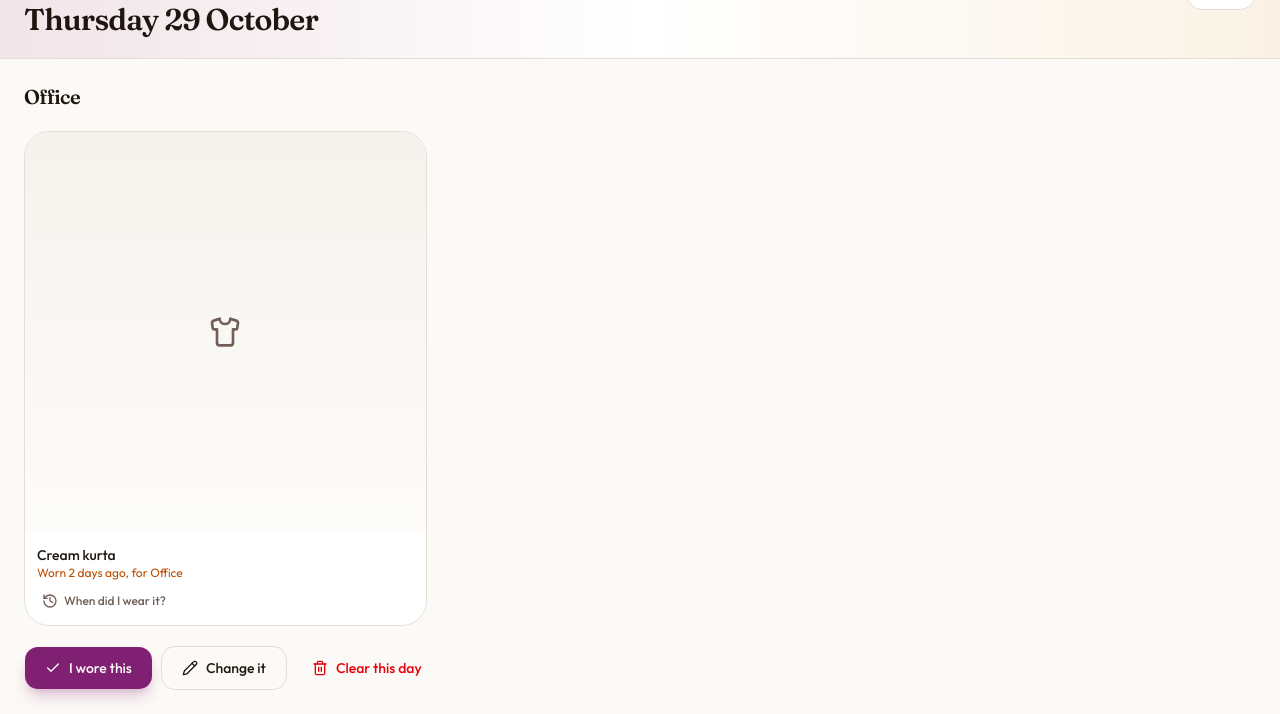
Test: DayPlan, on a day already planned › holds back Save changes until something is actually different
The image size is (1280, 714).
(page scrolled)
Click the button "Change it" at (224,668), box x1=161 y1=646 x2=287 y2=690
(page scrolled)
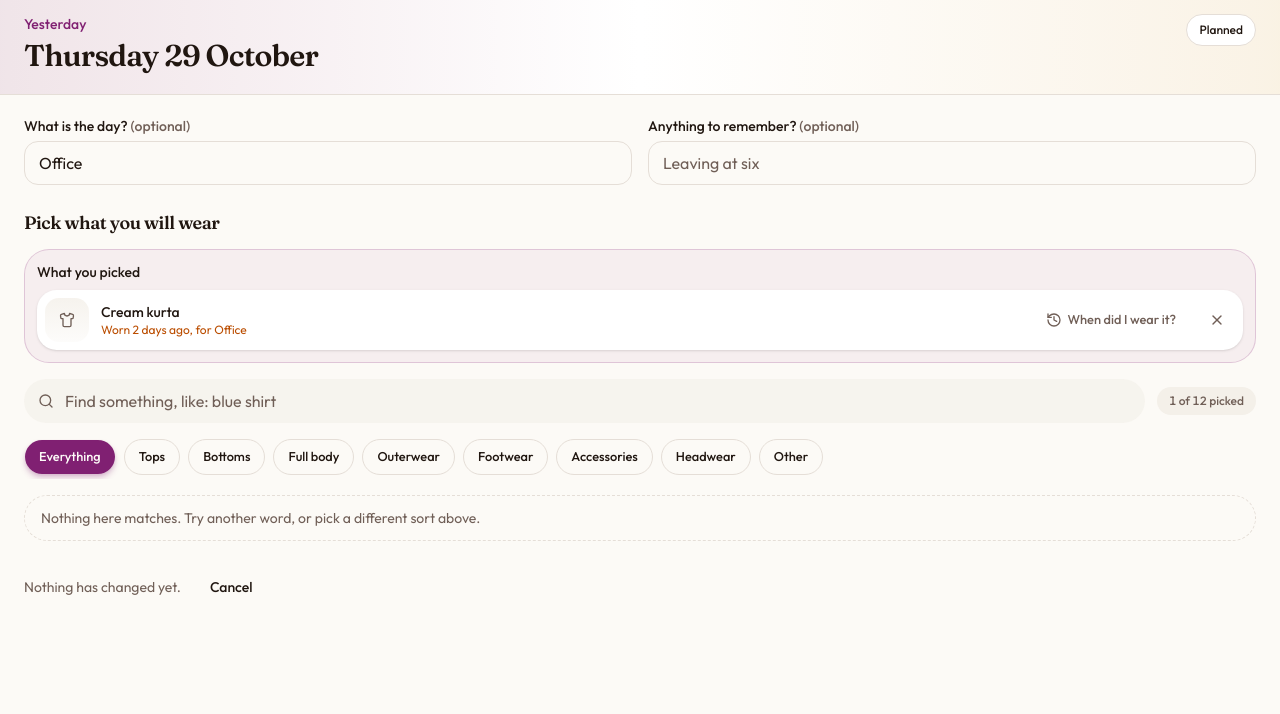
Check: the button "save changes" is not shown
Check: the text "Nothing has changed yet." is shown, box x1=24 y1=578 x2=181 y2=596
Type " party" into the field labelled "What is the day? (optional)" at (328,163), box x1=24 y1=141 x2=632 y2=185
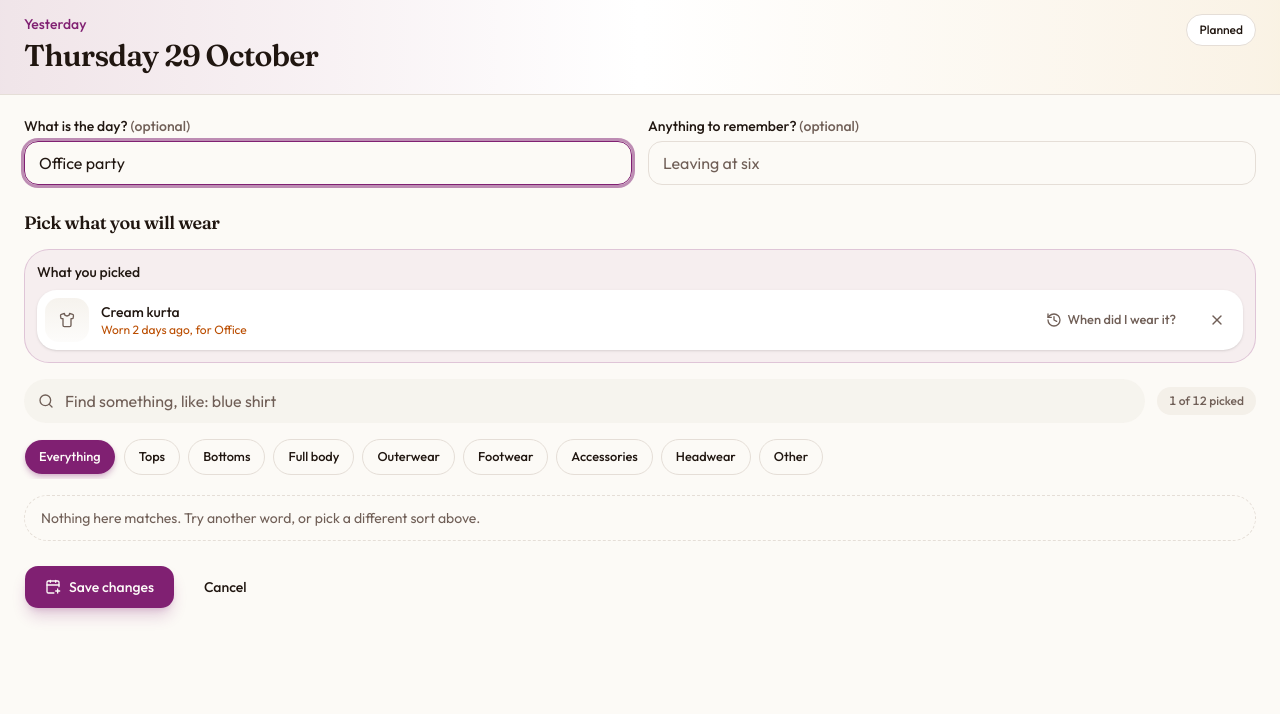
Check: the button "Save changes" is shown, box x1=24 y1=565 x2=175 y2=609
